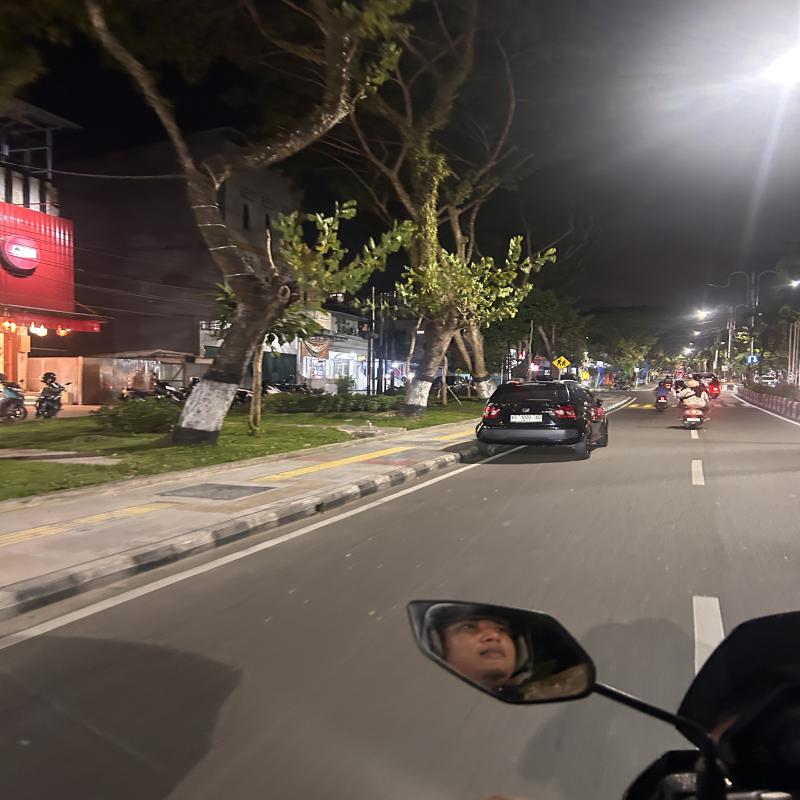license plate on a car: (509, 414, 544, 424)
